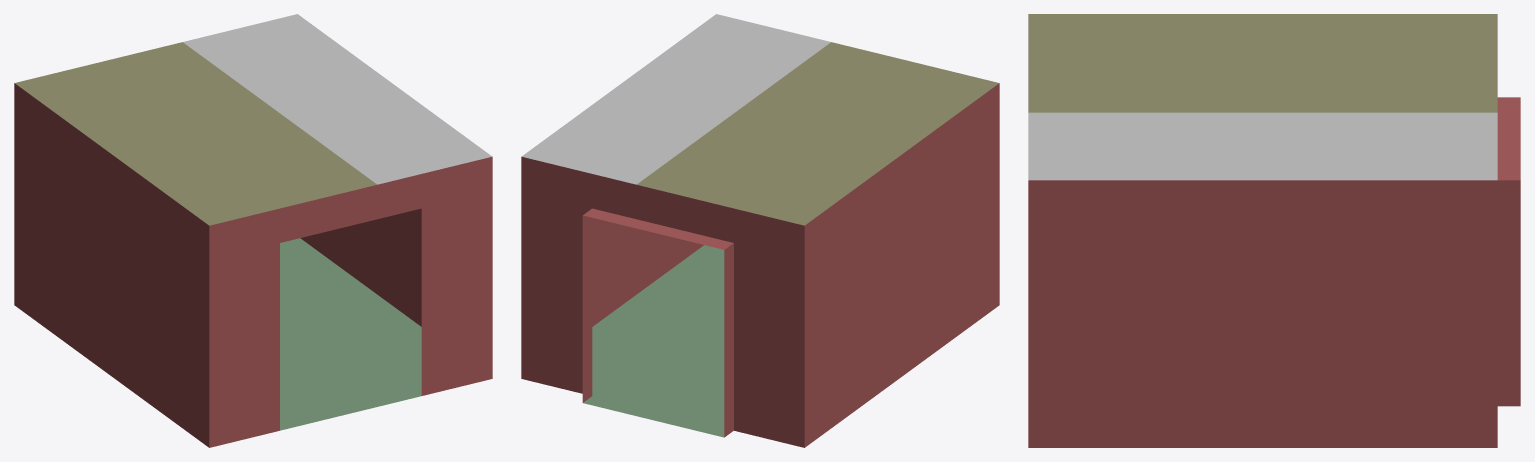
File: officeDemo.fbx
3 renders of one model, left to right at view 1: azimuth 30°, elevation 25°; view 2: azimuth 150°, elevation 25°; view 3: azimuth 270°, elevation 25°, orthographic. The views are drawn at different scales.
Visible parts, largest first — view 1: Mesh_officeDemo; view 2: Mesh_officeDemo; view 3: Mesh_officeDemo.
Boxes of the visible parts, x1,y1,x2,y2 form: Mesh_officeDemo: [14, 14, 492, 447]; Mesh_officeDemo: [521, 14, 999, 447]; Mesh_officeDemo: [1028, 14, 1520, 447].
Size of the model in its own units: 400 by 300 by 500.
